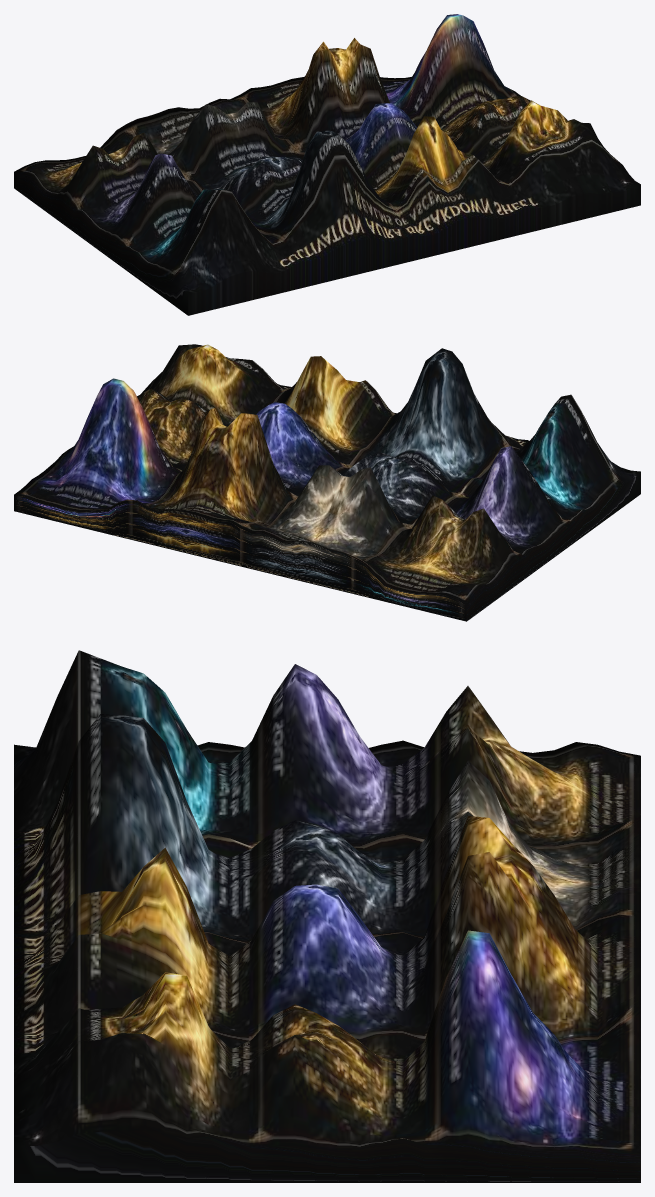
Rendered from Aura_Breakdown_12_Realms.glb.
3 renders of one model, top to bottom at view 1: azimuth 30°, elevation 25°; view 2: azimuth 150°, elevation 25°; view 3: azimuth 270°, elevation 25°, orthographic. The views are drawn at different scales.
Parts seen in each view (by area): view 1: Aura_Breakdown_12_Realms; view 2: Aura_Breakdown_12_Realms; view 3: Aura_Breakdown_12_Realms.
Part boxes in pixels (<box>): Aura_Breakdown_12_Realms: <box>14,14,640,315</box>; Aura_Breakdown_12_Realms: <box>14,344,640,621</box>; Aura_Breakdown_12_Realms: <box>14,650,640,1182</box>.
Size of the model in its own units: 2 by 0.51 by 1.33.
1 material, 1 textured.
